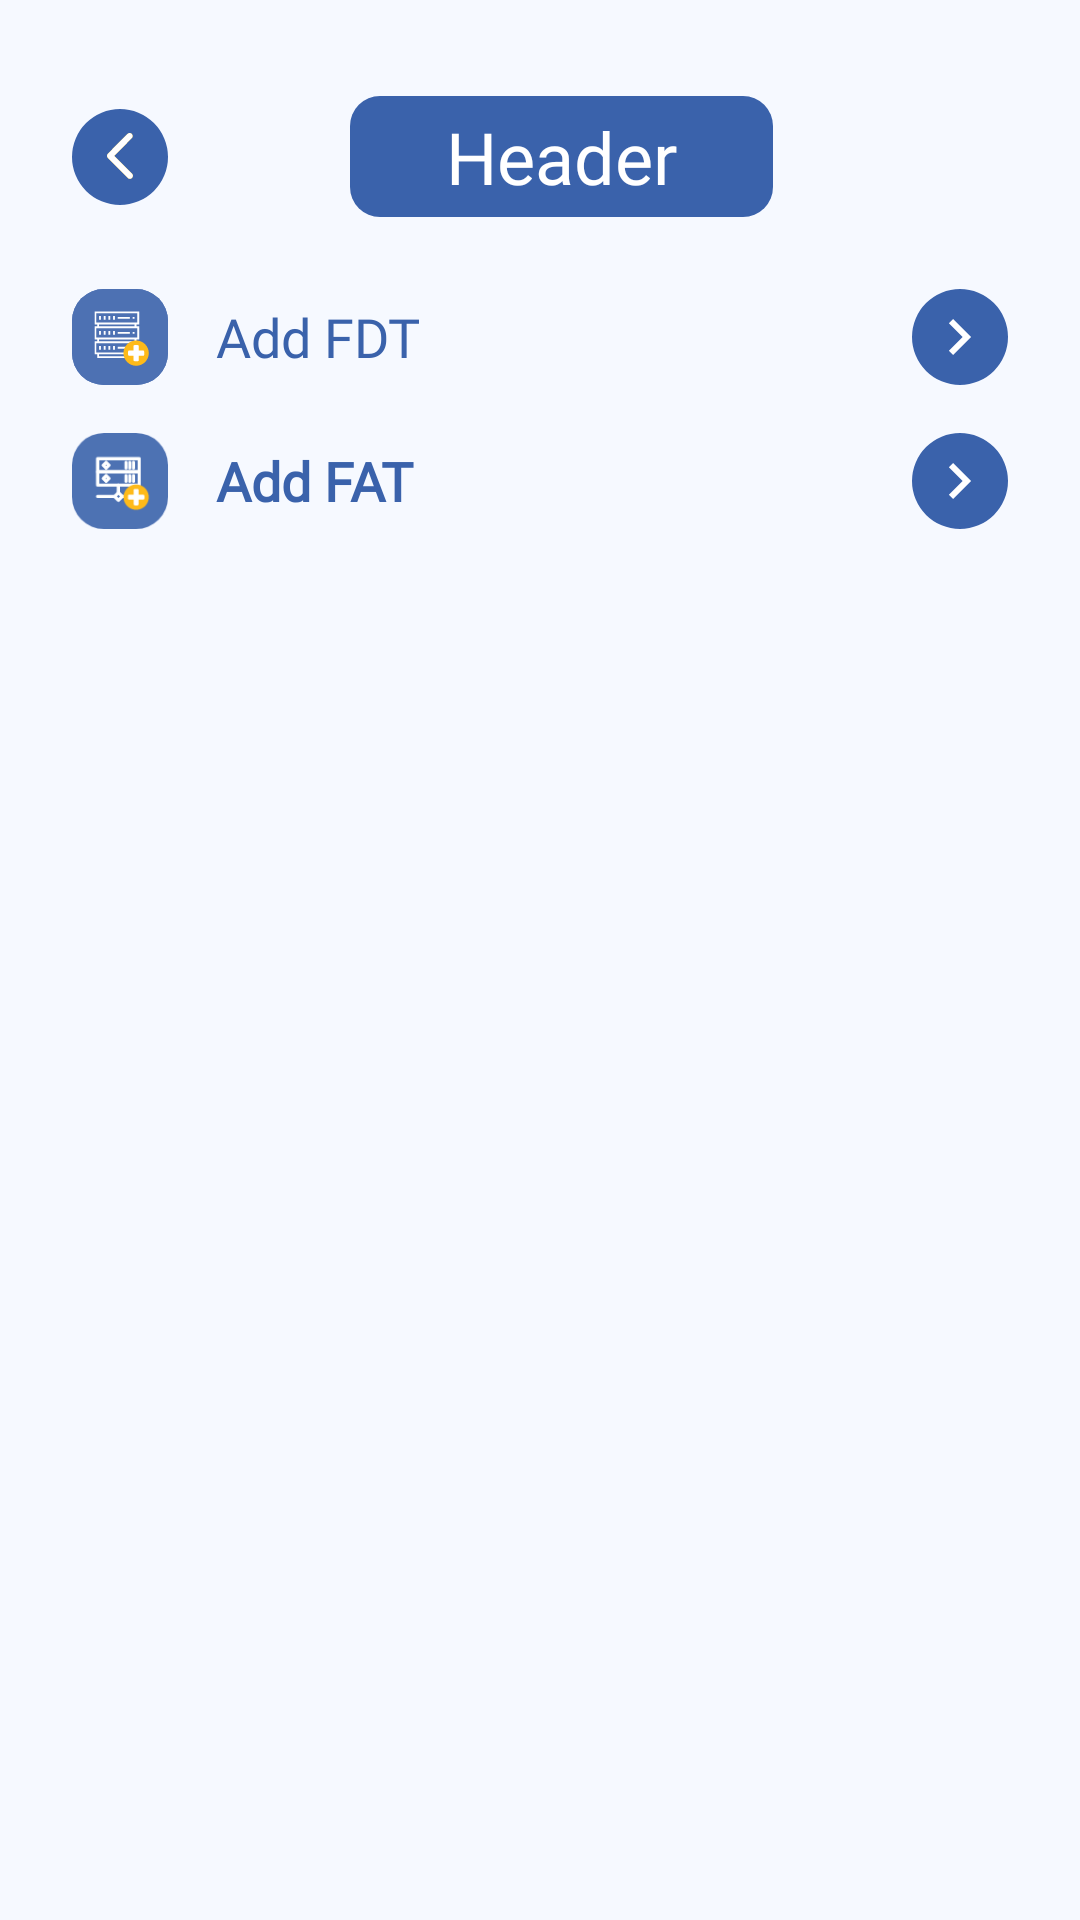

Where to tap for icons on this 1080 × 1920 app screen, as point (x, y):
back: point (120, 157)
chevron right: point (960, 337), point (960, 481)
